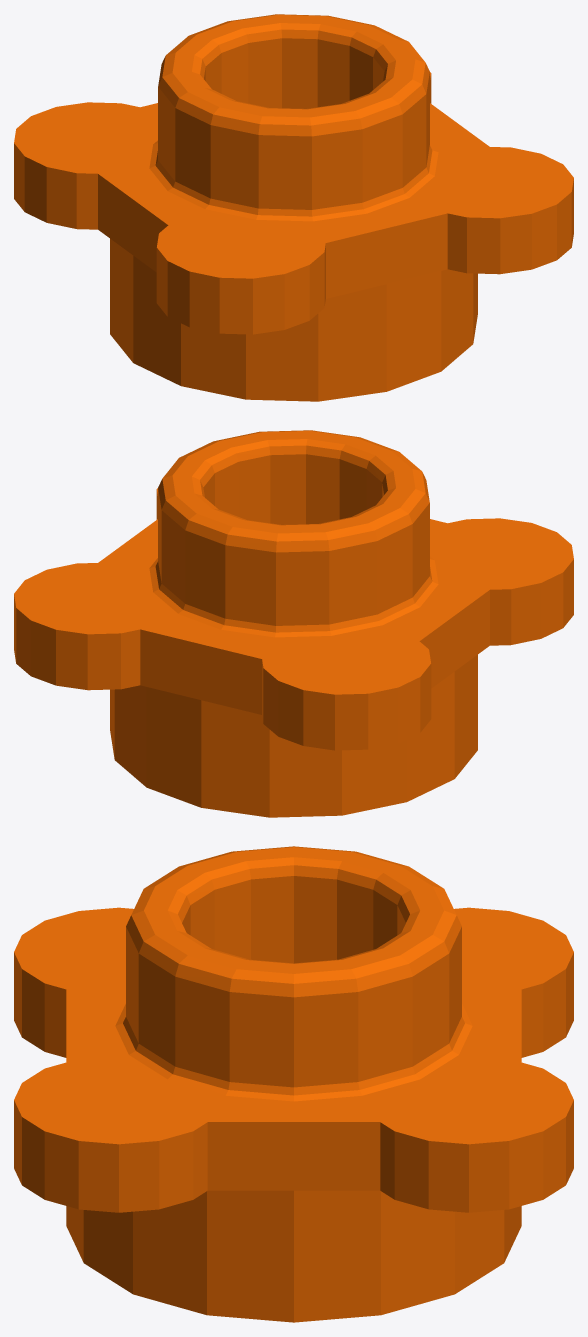
File: Sun.dae
3 renders of one model, top to bottom at view 1: azimuth 30°, elevation 25°; view 2: azimuth 150°, elevation 25°; view 3: azimuth 270°, elevation 25°, orthographic. The views are drawn at different scales.
Visible parts, largest first — view 1: Part.0; view 2: Part.0; view 3: Part.0.
Boxes of the visible parts, x1,y1,x2,y2 form: Part.0: (14, 14, 573, 401); Part.0: (14, 430, 573, 817); Part.0: (14, 846, 573, 1322).
Size of the model in its own units: 8 by 4.98 by 8.
